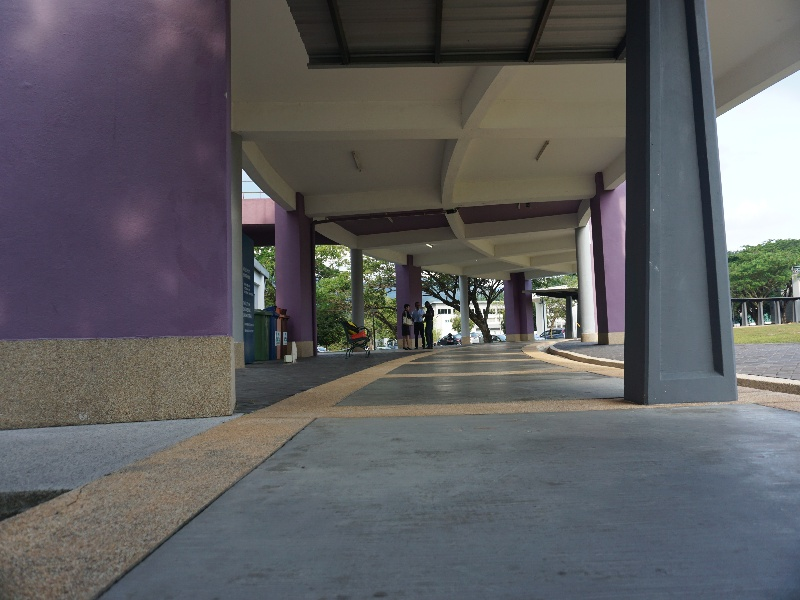pillar: (4, 4, 244, 436), (612, 4, 755, 413), (262, 185, 318, 357)
